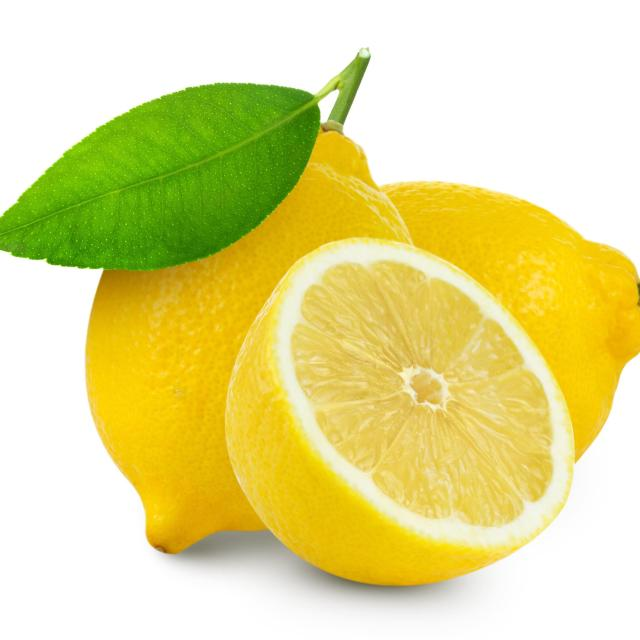lemon: (217, 232, 580, 596)
